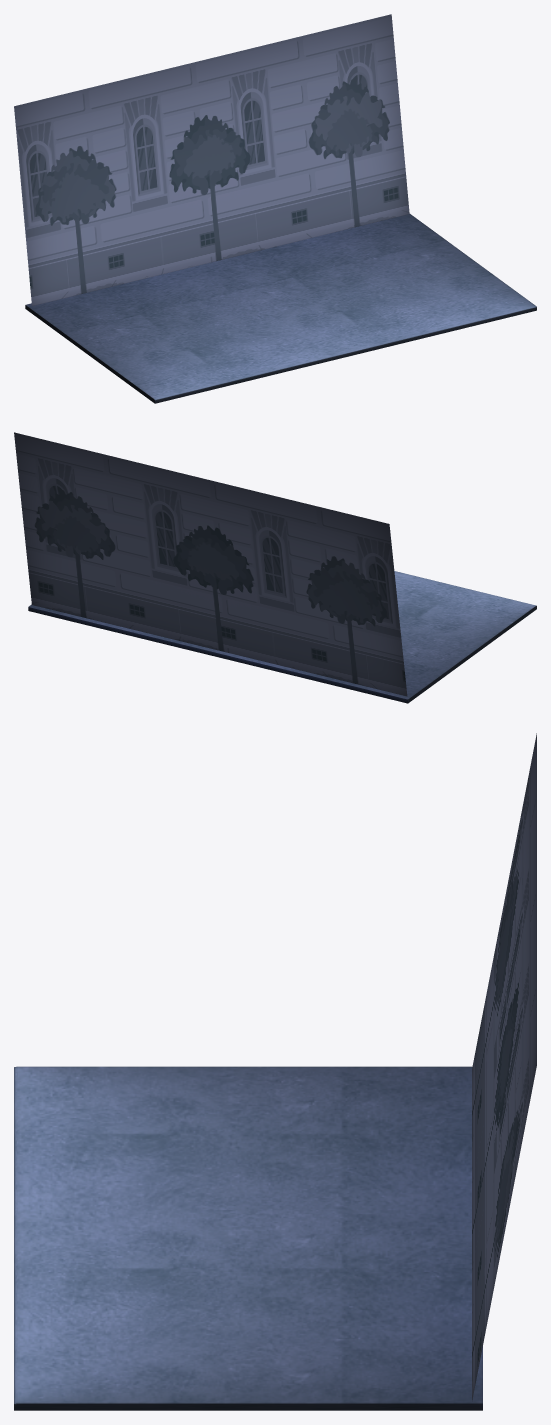
The model's file is street.glb.
3 renders of one model, top to bottom at view 1: azimuth 30°, elevation 25°; view 2: azimuth 150°, elevation 25°; view 3: azimuth 270°, elevation 25°, orthographic. The views are drawn at different scales.
Visible parts, largest first — view 1: Plane, Cube.001; view 2: Plane, Cube.001; view 3: Cube.001, Plane.
Part boxes in pixels (x1=…): Plane: x1=14, y1=14, x2=409, y2=305; Cube.001: x1=25, y1=214, x2=536, y2=403; Plane: x1=14, y1=432, x2=407, y2=696; Cube.001: x1=28, y1=571, x2=536, y2=703; Cube.001: x1=14, y1=1066, x2=482, y2=1410; Plane: x1=472, y1=733, x2=536, y2=1401.
Size of the model in its own units: 89.8 by 42.84 by 58.9.
2 materials, 2 textured.
